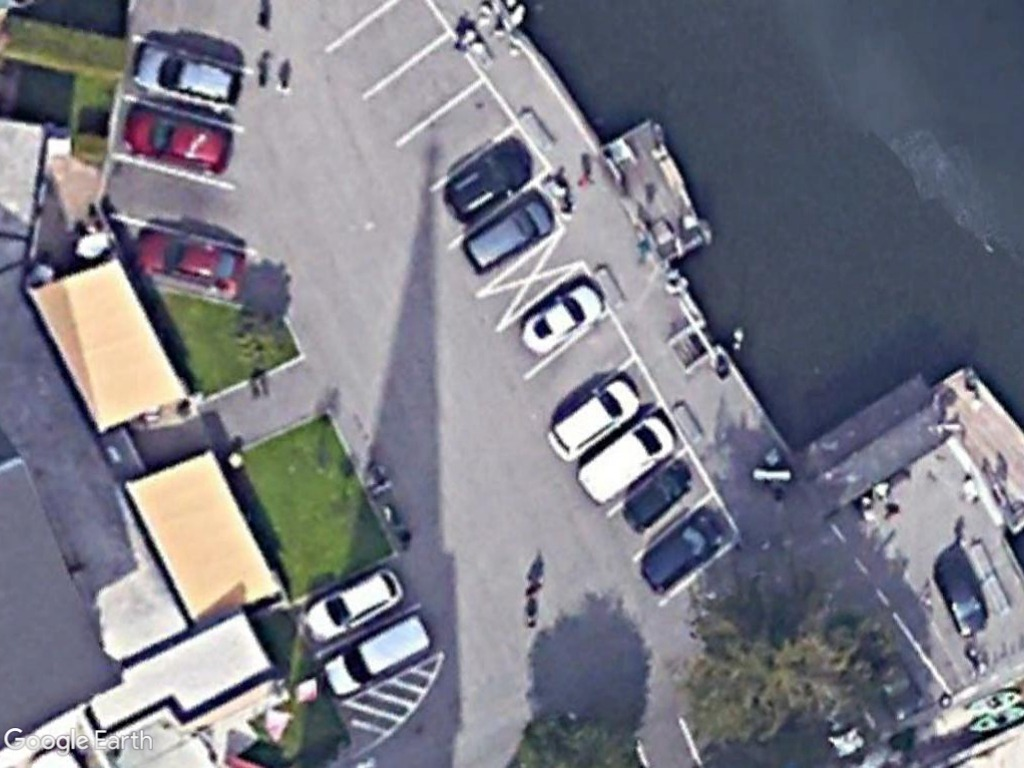car: (125, 217, 252, 303), (127, 36, 254, 116), (112, 99, 239, 178), (542, 372, 644, 467), (633, 505, 733, 600), (457, 186, 558, 278), (300, 562, 409, 646), (436, 140, 539, 224), (517, 274, 609, 360), (613, 459, 699, 537), (930, 547, 996, 643)
van: (315, 608, 438, 702), (572, 404, 680, 509)
